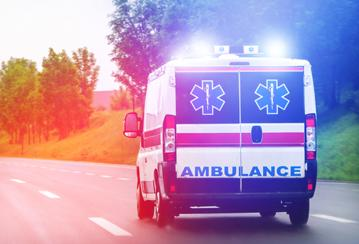ambulance_on: (124, 43, 319, 227)
